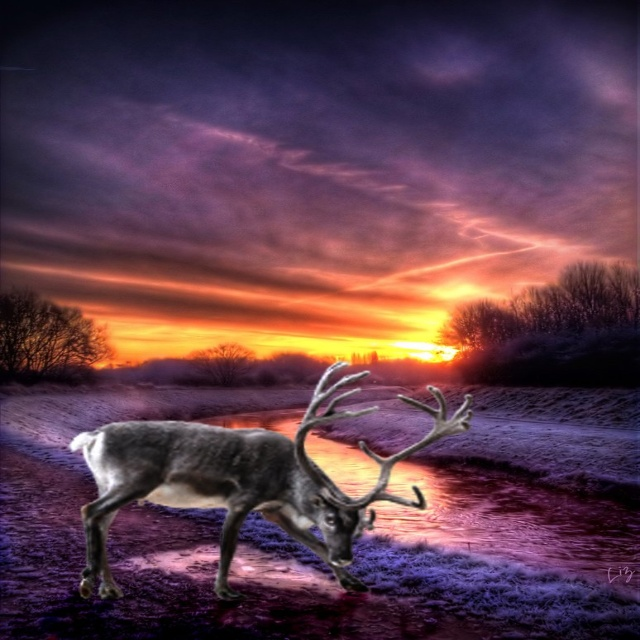Deer: (70, 363, 472, 597)
